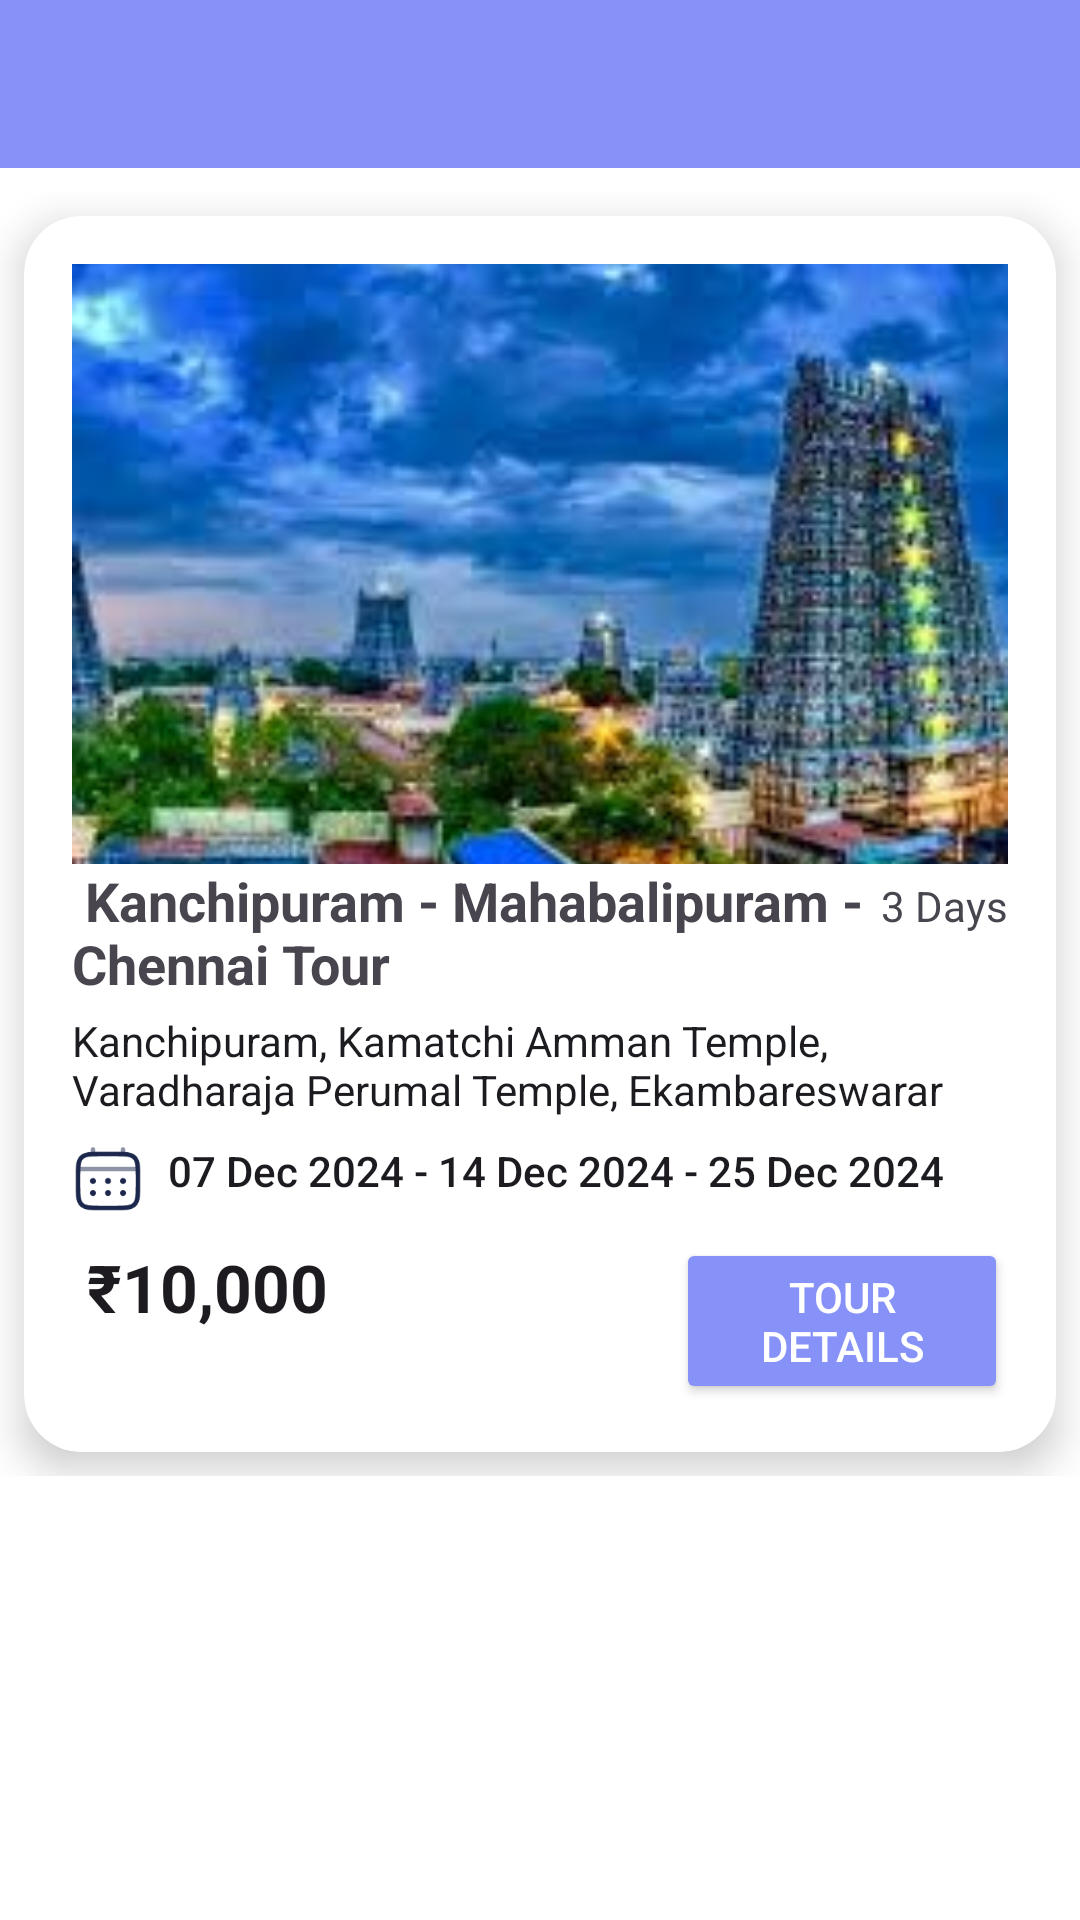

Icon click points for this 1080 x 1920 phone screenshot, format (x=x, y=y):
Calendar Icon: (x=108, y=1179)
